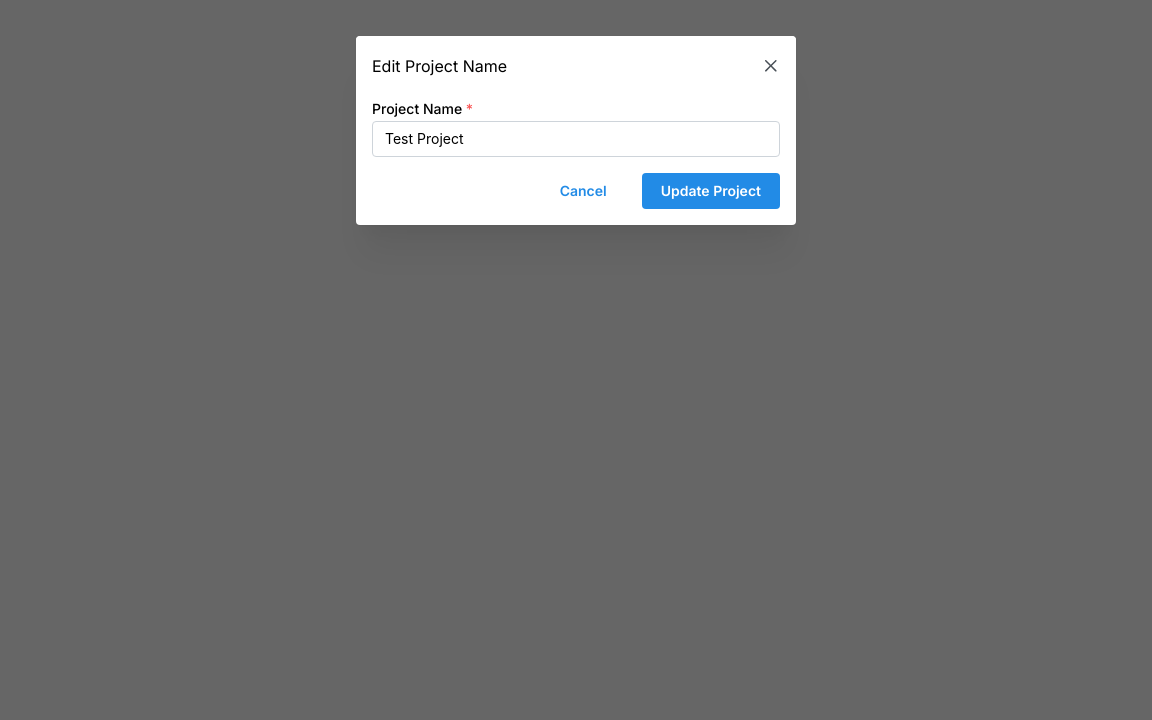
Test case: EditProjectName Modal › Form Validation › should disable submit button when name is empty
Clear the field with test id "project-name-input" at (576, 139), box [372, 121, 780, 157]
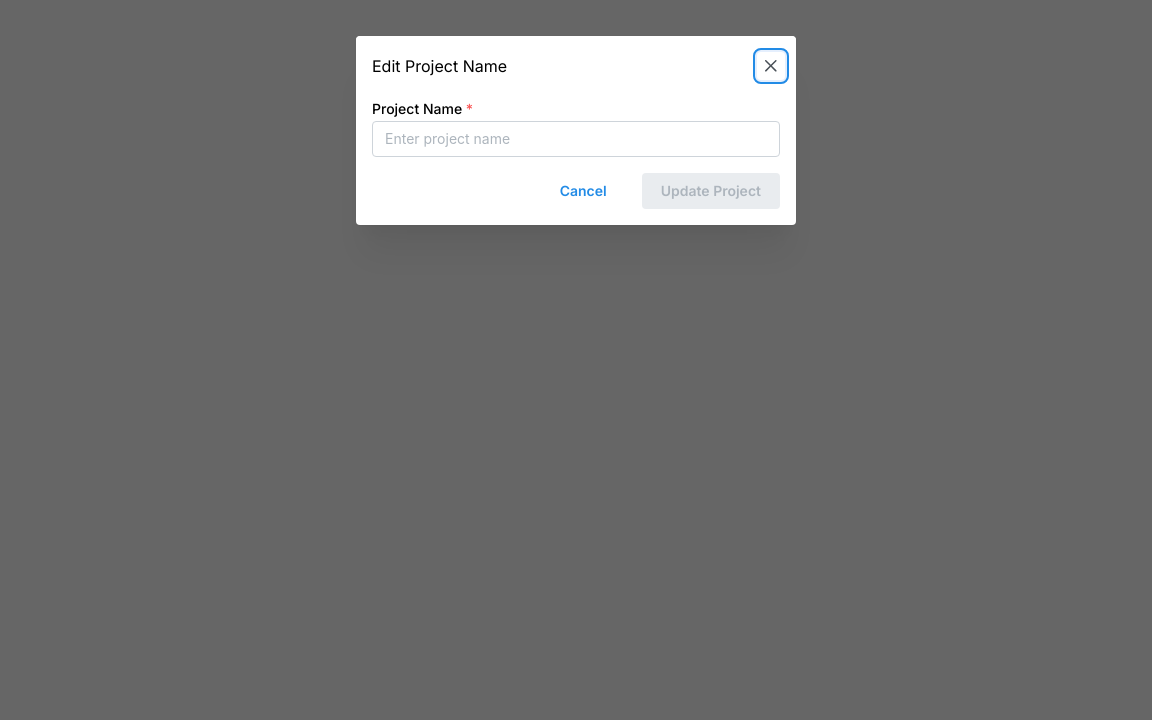
expect the button with test id "submit-button" is disabled: met, box [642, 173, 780, 209]
